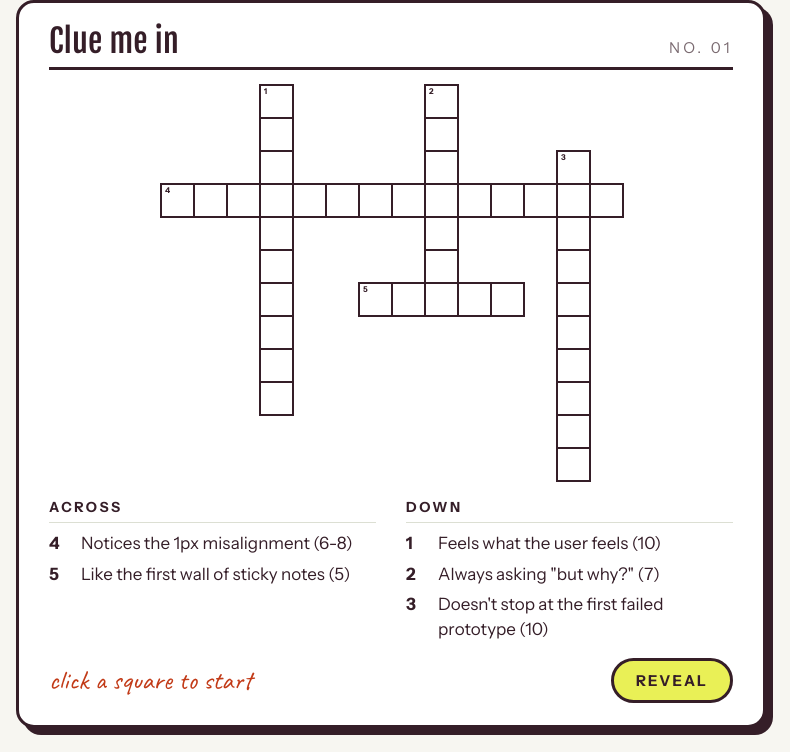
Test: Crossword › typing fills squares, advances, and marks wrong letters red
The width and height of the screenshot is (790, 752).
Click the cell "4" at point(178, 200), box [160,183,195,218]
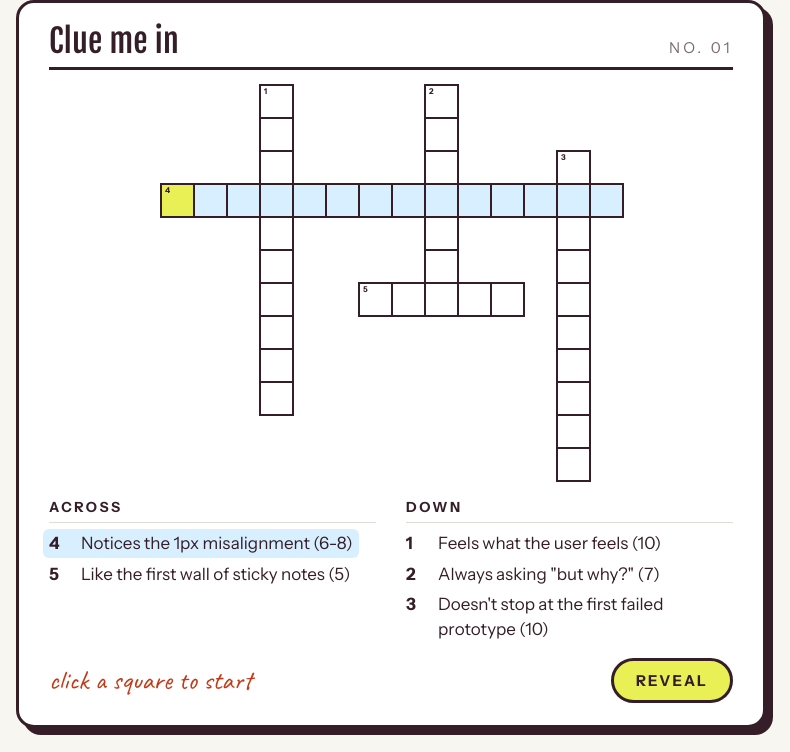
Press d in the field named "Type a letter", box [160,84,622,480]
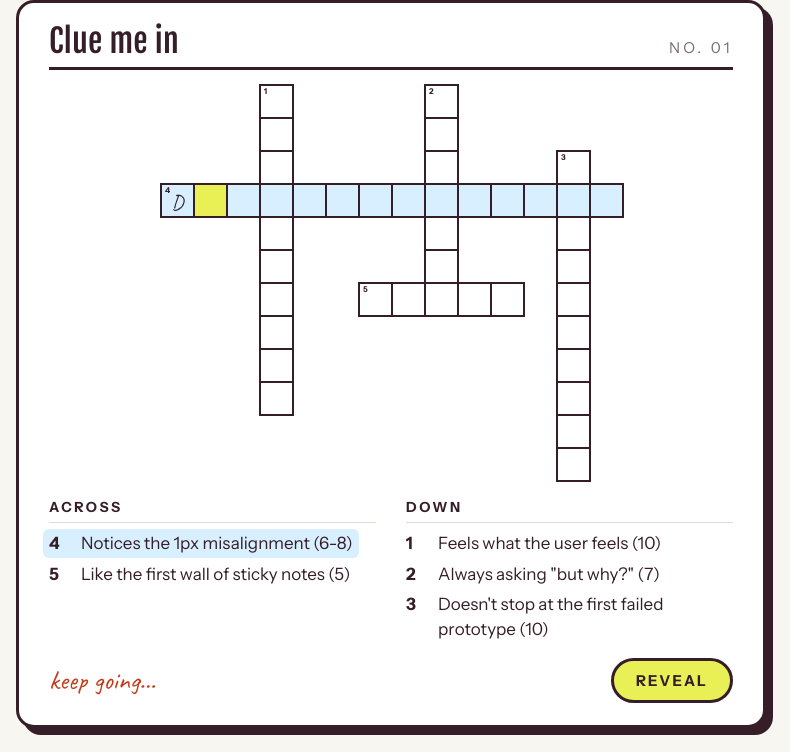
Press x in the field named "Type a letter", box [160,84,622,480]
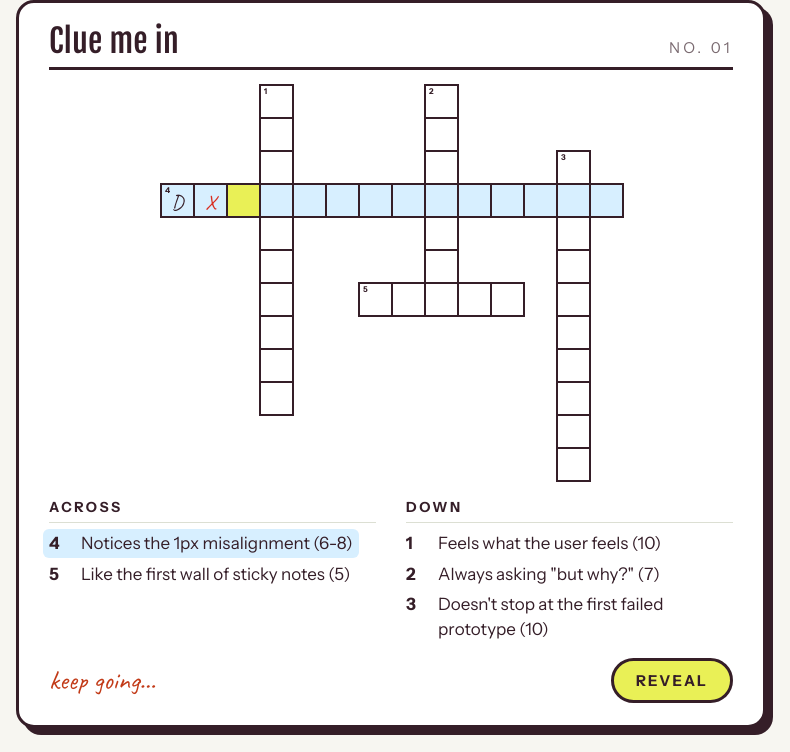
Now the text "keep going…" is shown, box [49,667,155,694]
Now the cell "X" is shown, box [193,183,228,218]
